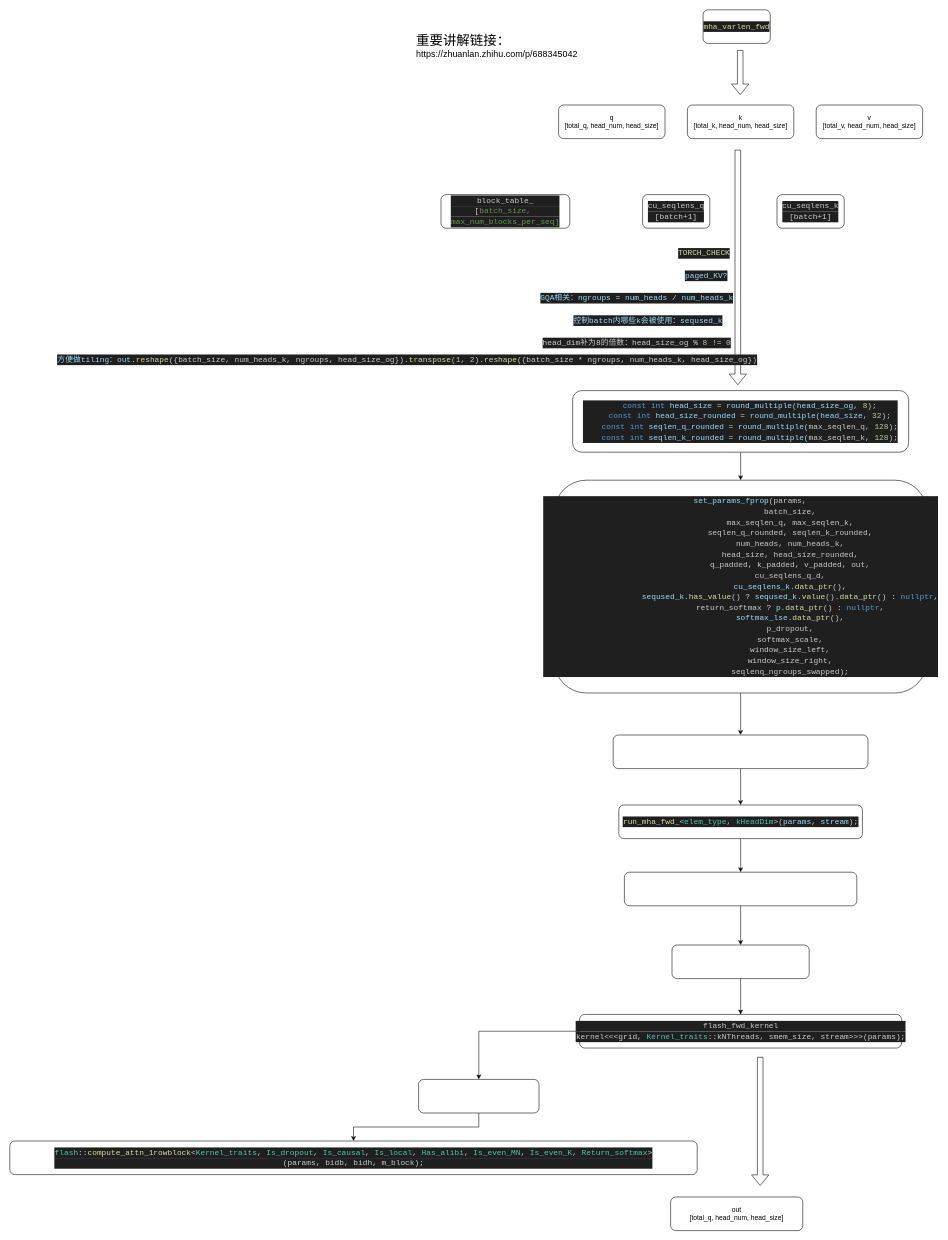
Image size: 948x1240. Some labels were removed from this diagram. Here are the shapes that lost their labels. From the top down, the centre of each, then its label:
At point (740, 751): "run_mha_fwd (params, stream, paged_KV);".
At point (740, 889): "generate_kernels.py run_mha_fwd_hdim {HEAD_DIM} < {DTYPE} >(params, stream);".
At point (740, 961): "flash_fwd_launch_template.h run_mha_fwd_hdim32()".
At point (478, 1096): "flash_fwd_kernel.h flash :: compute_attn".
